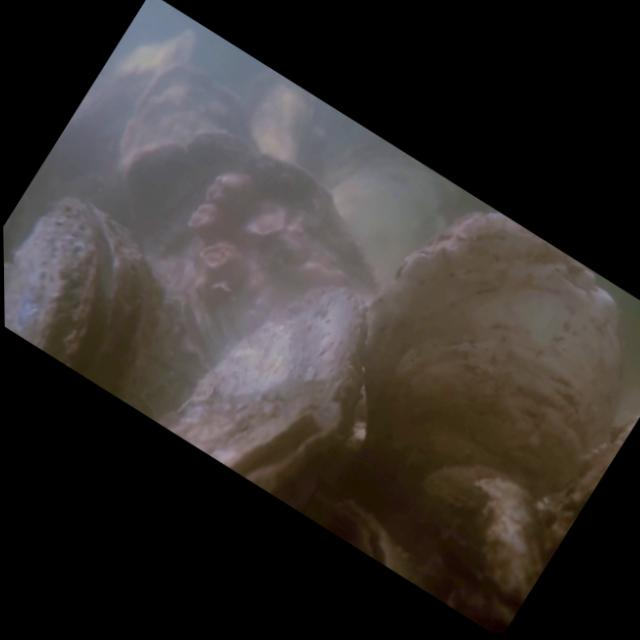Oyster-Closed: (175, 280, 369, 488), (4, 191, 165, 397)
Oyster-Indeterminate: (364, 210, 621, 494), (122, 128, 378, 375), (323, 139, 444, 269), (115, 65, 262, 170), (248, 72, 329, 177), (338, 496, 409, 576)
